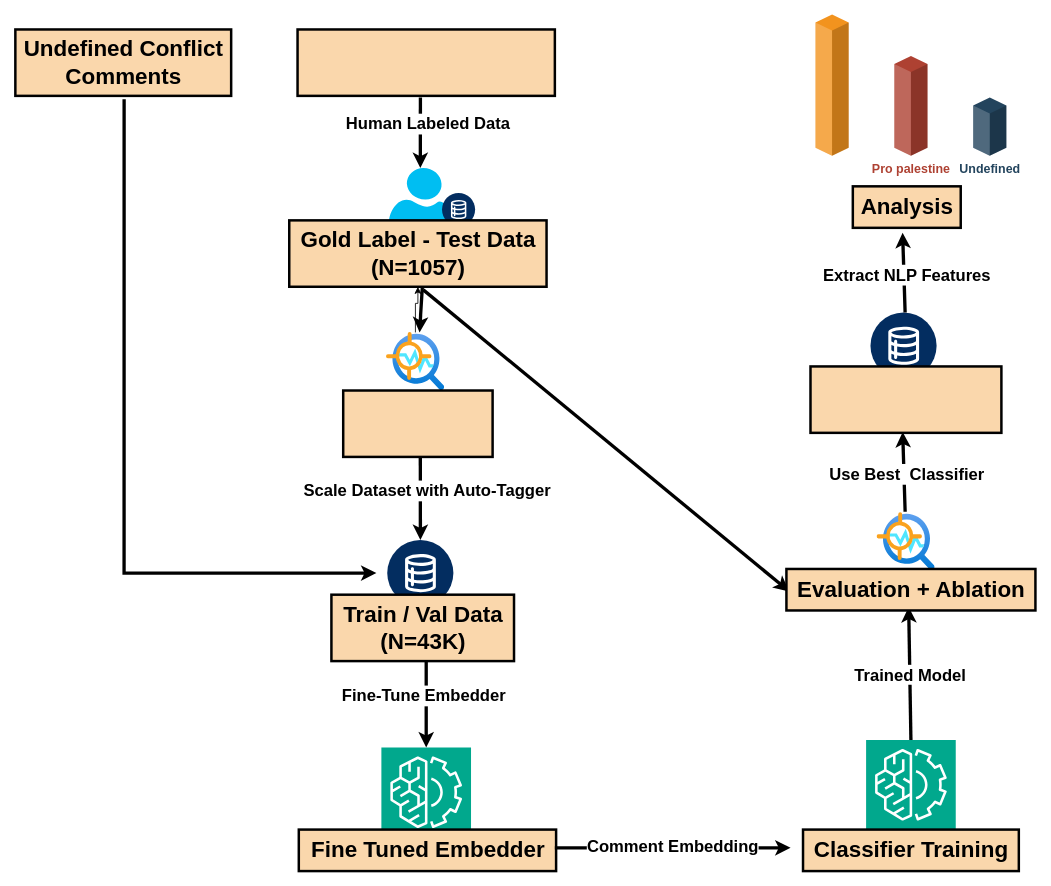
The diagram is 1051 pixels wide and 886 high, and some of its shapes have lost their labels. Each missing label, with the centre of its shape:
"Labeled Dataset (N=2.7M)" belongs at [905,399].
"Pro Israel" belongs at [831,84].
"Prompt Engineering" belongs at [417,423].
"Reddit Israel-Palestine Conflict Comments" belongs at [426,62].
